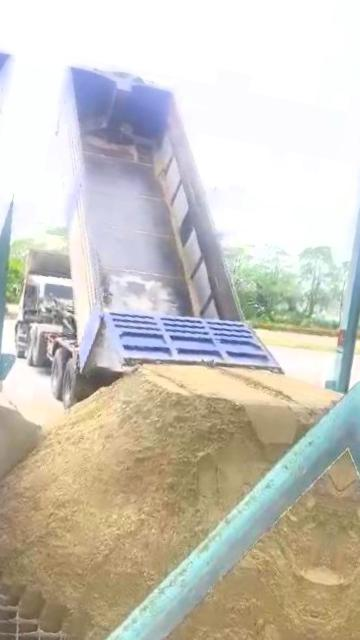sand: (0, 365, 333, 640), (158, 460, 345, 640), (0, 398, 42, 496)
